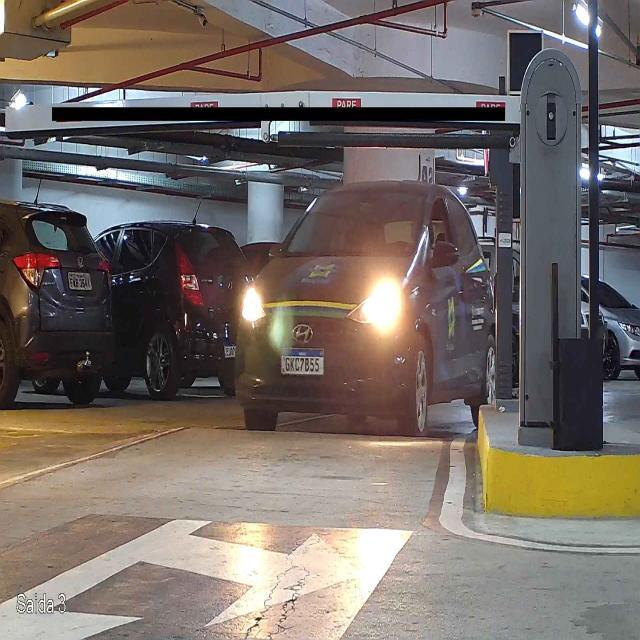mercosul_plate: (279, 347, 326, 377)
